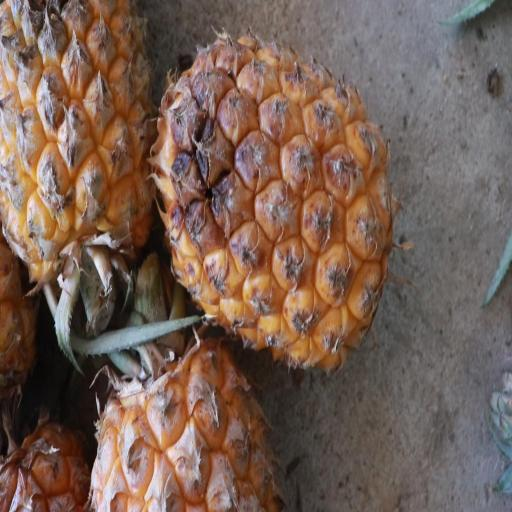Pineapple - v8 v1: (152, 29, 406, 383), (0, 2, 157, 327), (80, 298, 274, 512)
